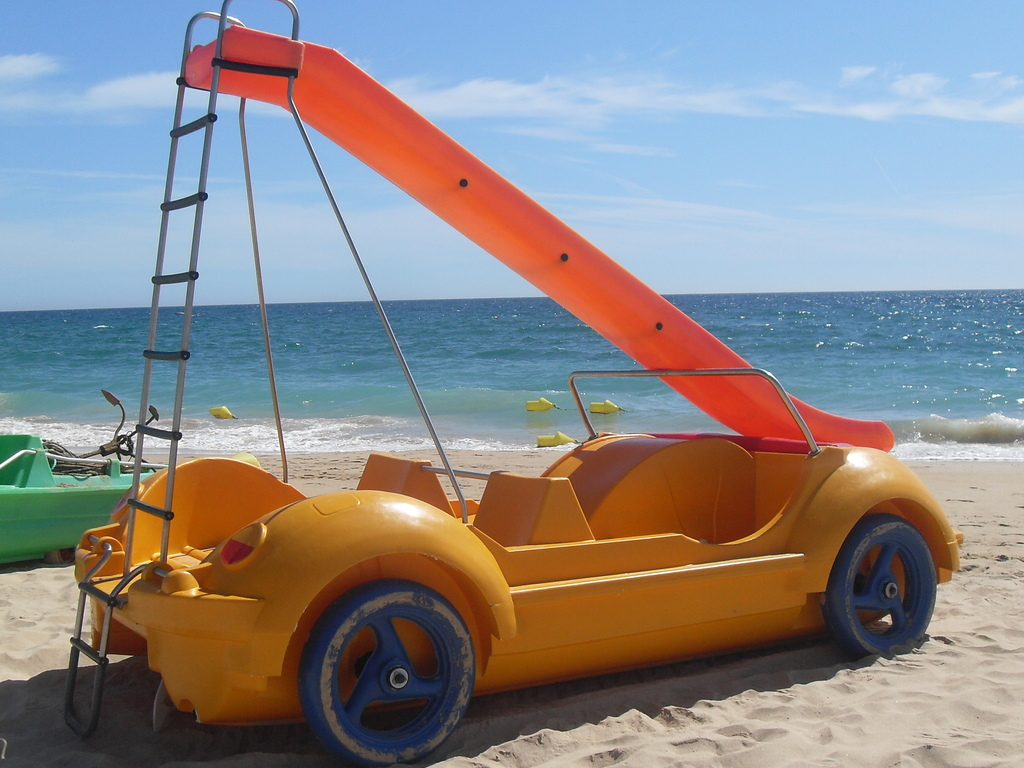Car: (56, 364, 960, 767)
